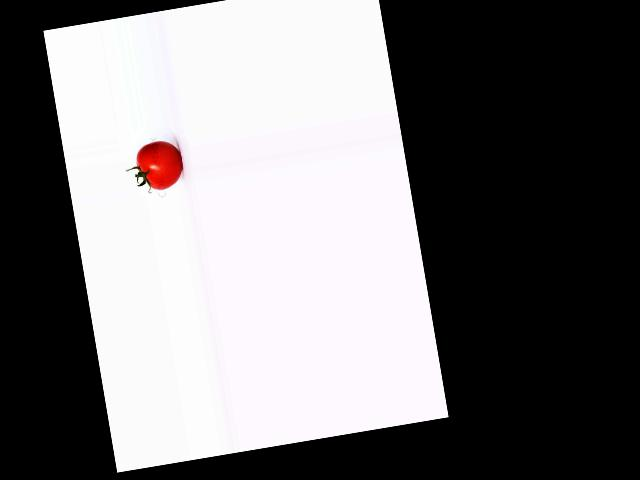tomato: (133, 137, 185, 192)
